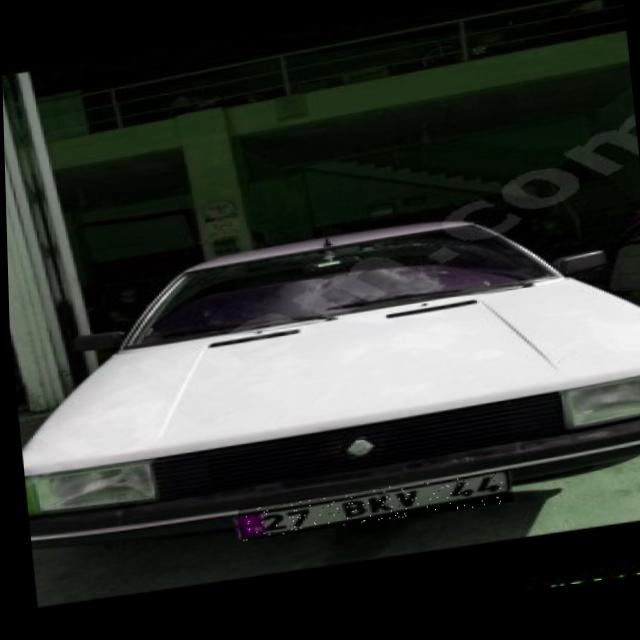license_plate: (234, 476, 511, 544)
